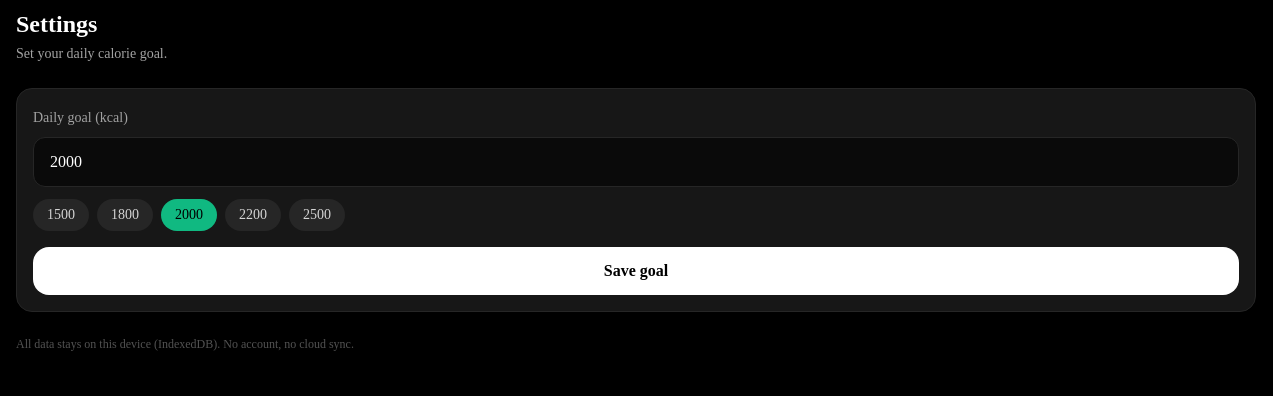
Test: SettingsScreen — BUG-10 goal validation, bounds, comma/space parsing › shows an inline error and does not save for invalid input
Clear the field labelled "Daily goal (kcal)" at (636, 162), box [33, 137, 1239, 187]
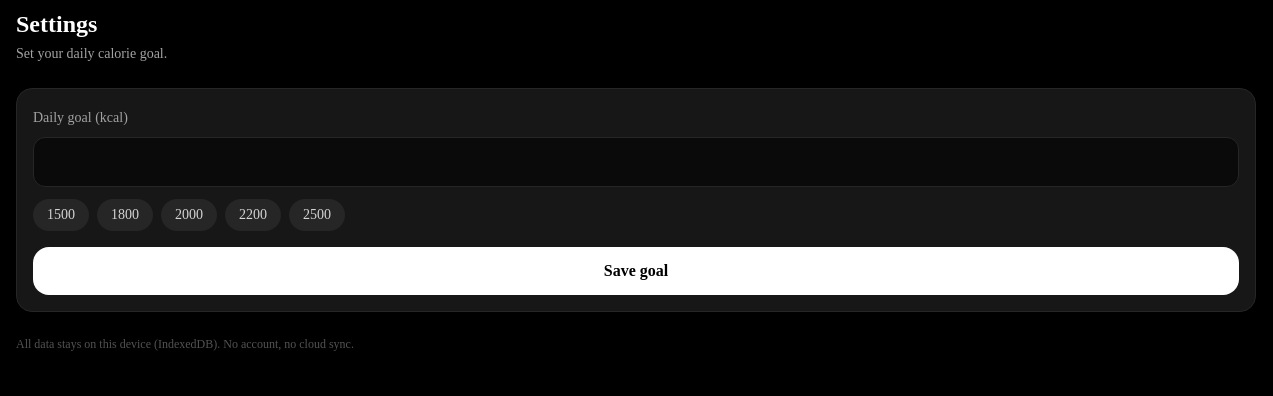
Click the button "Save goal" at (636, 271), box [33, 247, 1239, 295]
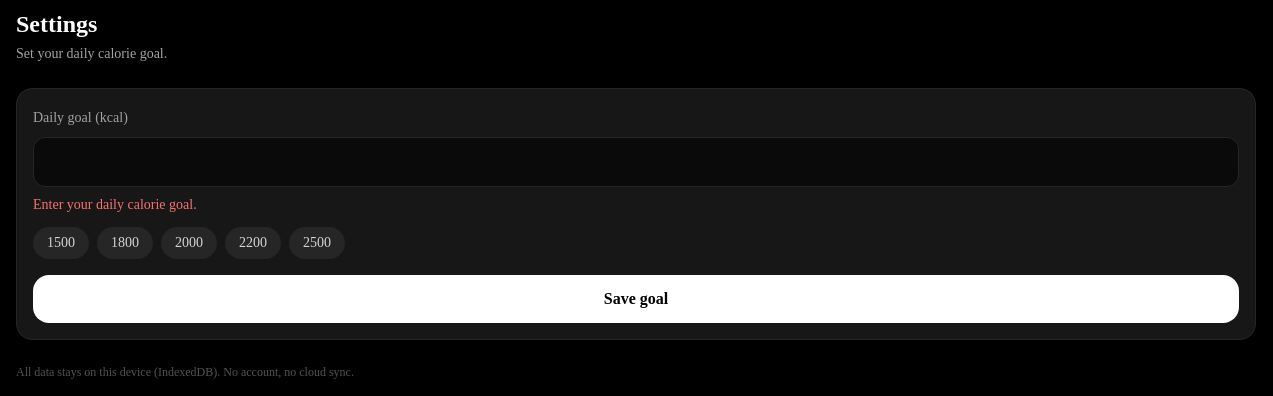
Expected: the message "Enter your daily calorie goal." is shown, [33, 197, 197, 212]
